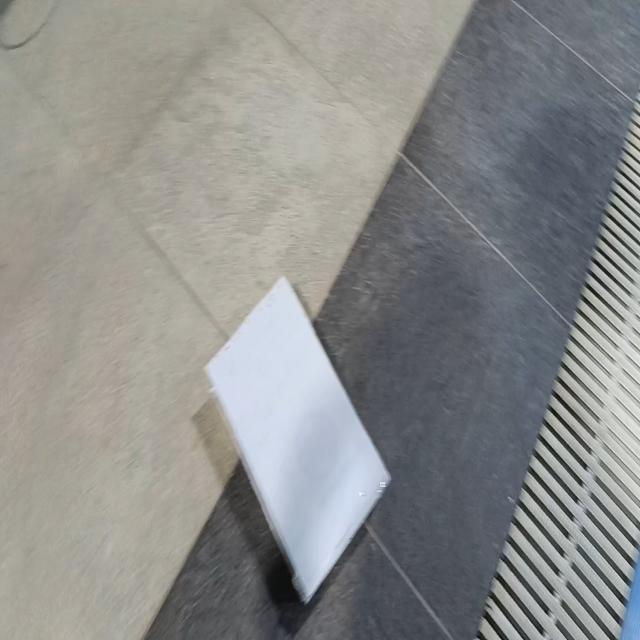Cuboid: (203, 273, 392, 605)
